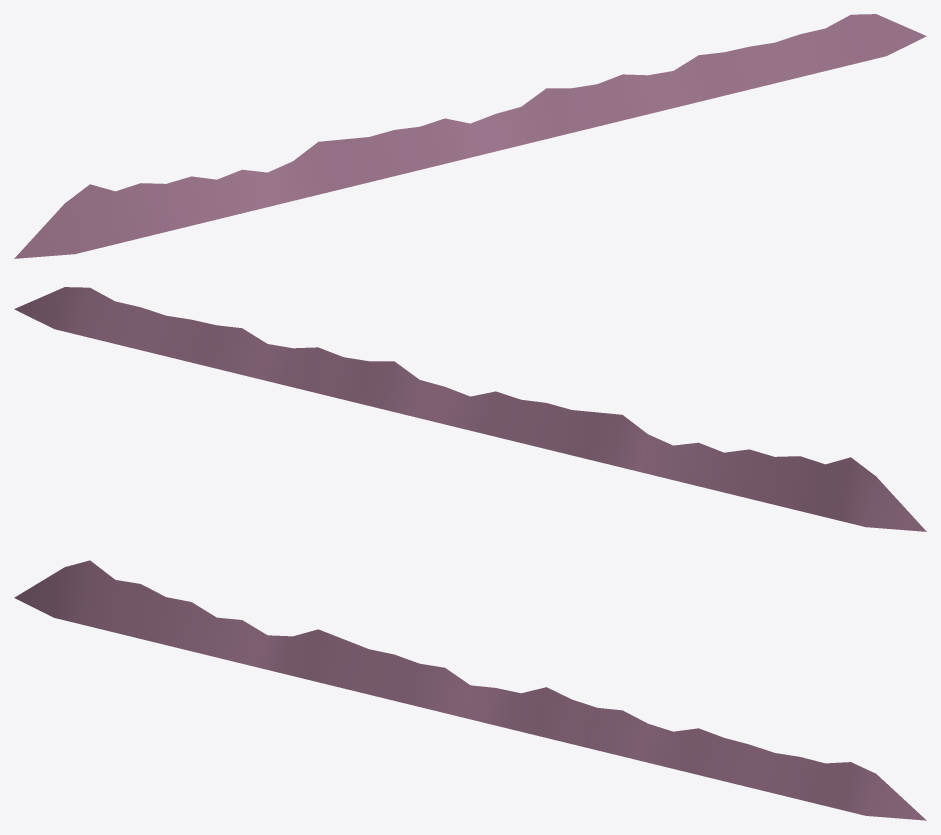
File: Mountains.fbx
3 renders of one model, top to bottom at view 1: azimuth 30°, elevation 25°; view 2: azimuth 150°, elevation 25°; view 3: azimuth 330°, elevation 25°, orthographic.
Visible parts, largest first — view 1: mountains; view 2: mountains; view 3: mountains.
Part boxes in pixels (x1,y1,x2,y2): mountains: (14,14,926,258); mountains: (14,287,926,531); mountains: (14,560,926,820).
Bounding box in the file's own units: 14936 × 878 × 592.
